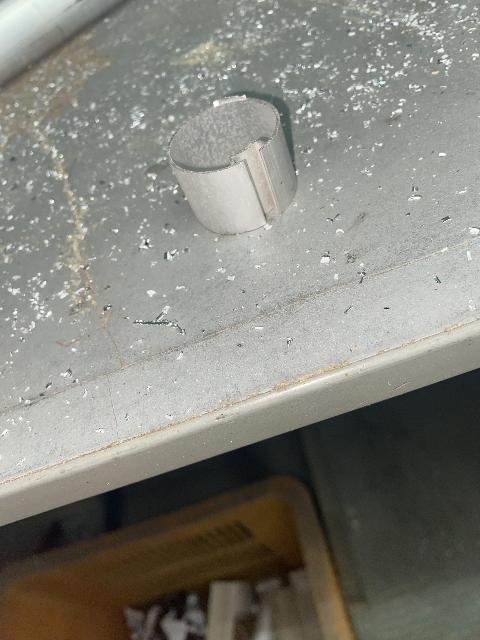Metal: (162, 78, 298, 233)
